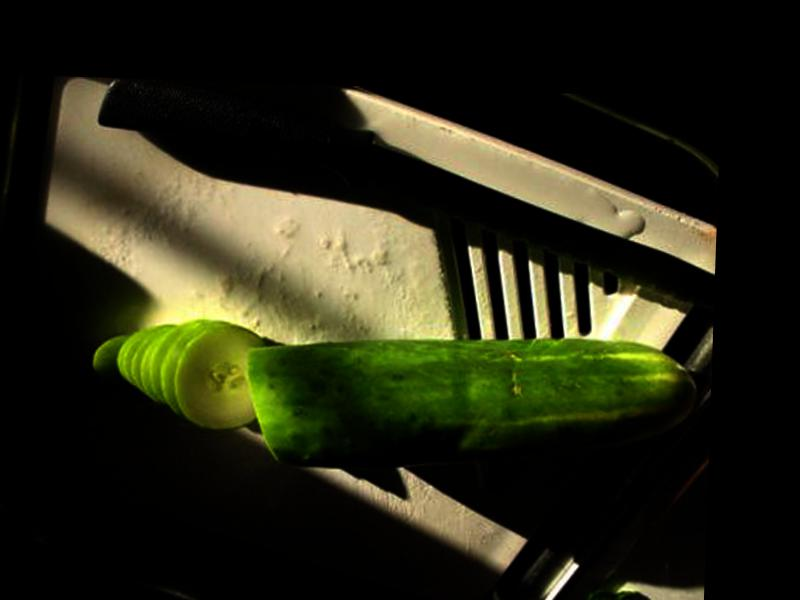Cucumber: (241, 327, 698, 479)
